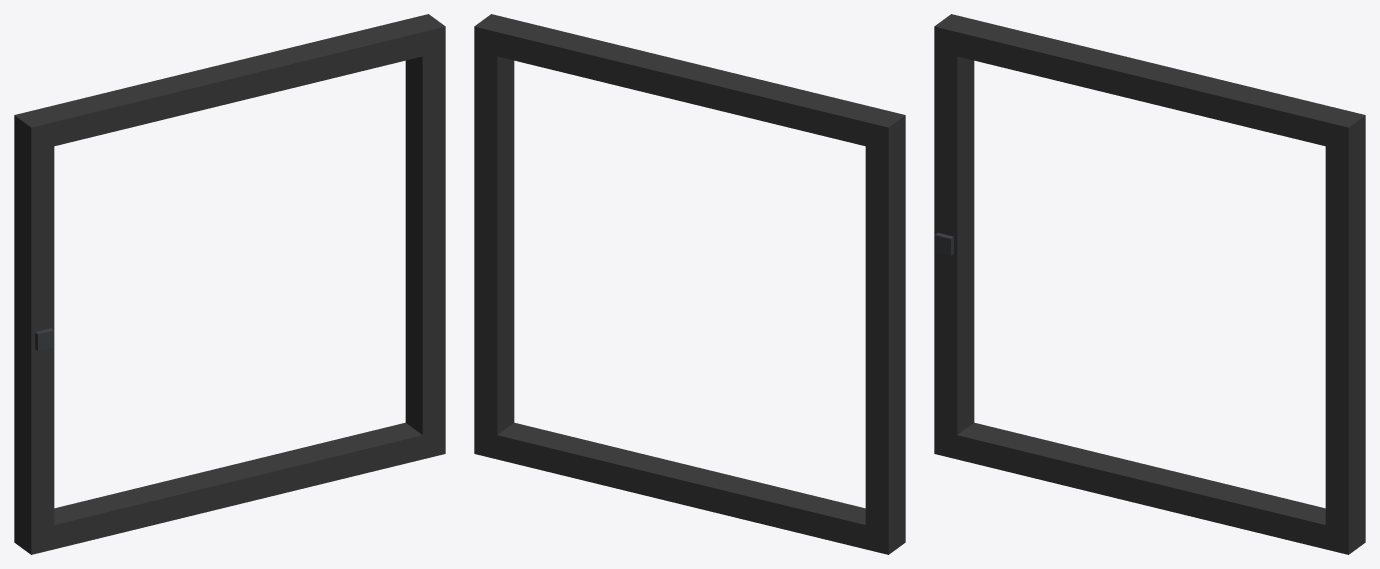
Rendered from Window6_04_3.fbx.
The picture shows the model from 3 angles, left to right: view 1: azimuth 30°, elevation 25°; view 2: azimuth 150°, elevation 25°; view 3: azimuth 330°, elevation 25°; orthographic projection.
Parts seen in each view (by area): view 1: Window6_04_3; view 2: Window6_04_3; view 3: Window6_04_3.
Boxes of the visible parts, x1=… form: Window6_04_3: x1=14, y1=14, x2=445, y2=554; Window6_04_3: x1=474, y1=14, x2=905, y2=554; Window6_04_3: x1=934, y1=14, x2=1365, y2=554.
Bounding box in the file's own units: 71.47 × 70.42 × 6.03.
